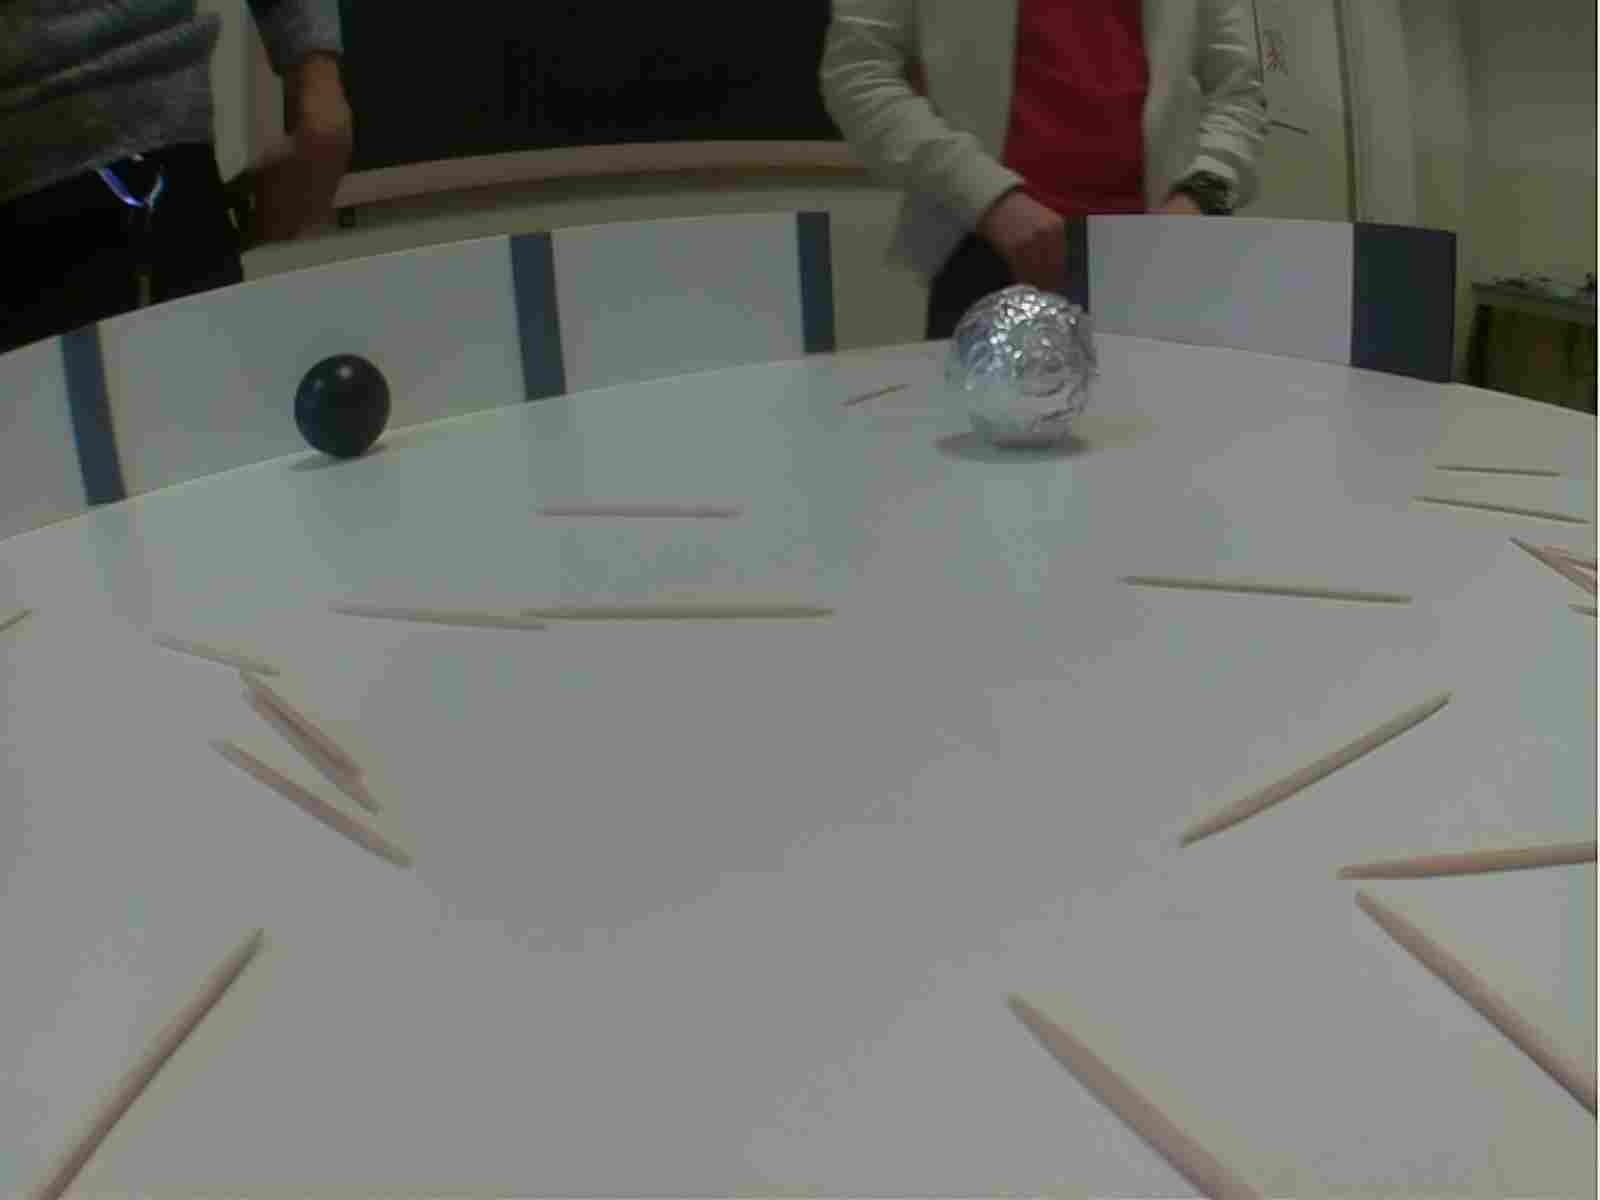bianca: (950, 287, 1107, 455)
nera: (290, 354, 393, 458)
